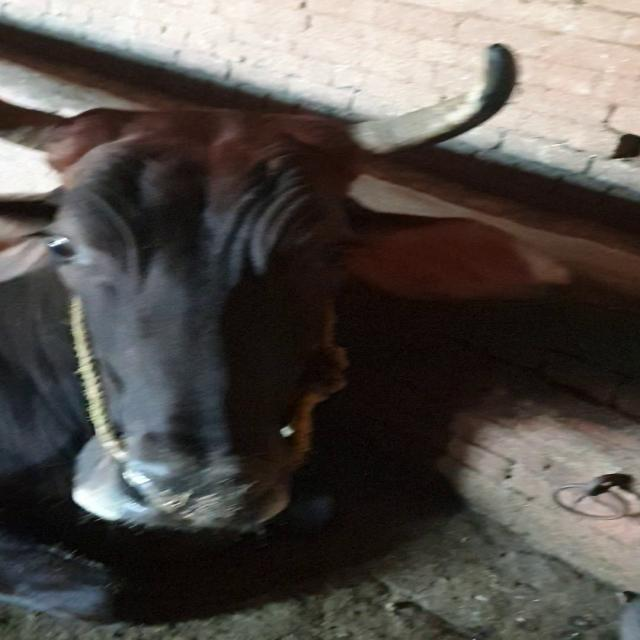cowFace: (40, 78, 376, 534)
